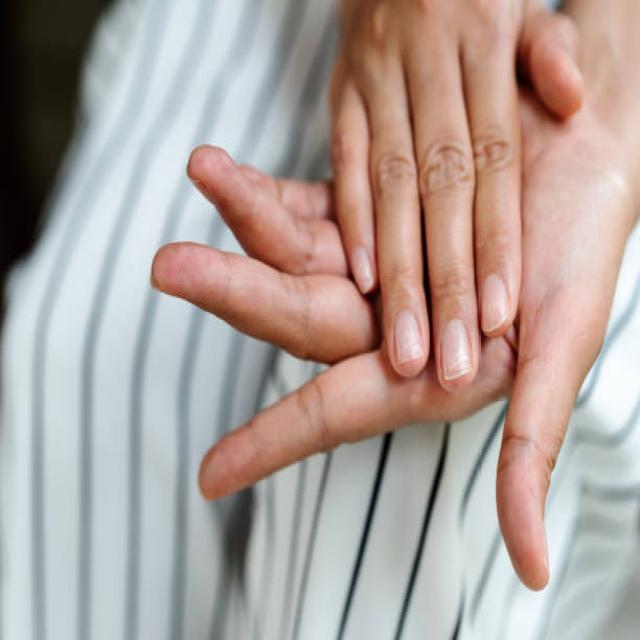Nail: (441, 320, 473, 381), (395, 308, 425, 366), (482, 273, 510, 334), (351, 246, 377, 297)
